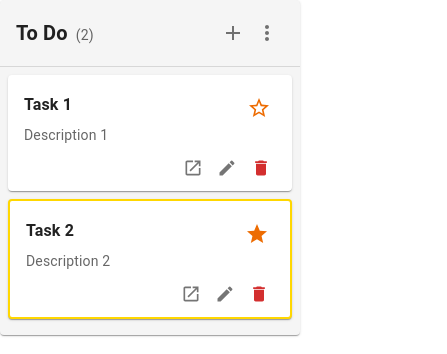
Test: BoardColumn › should open column menu when menu button is clicked
Click the button with test id "column-menu-btn-todo". click: (267, 33)
box: [250, 16, 284, 50]
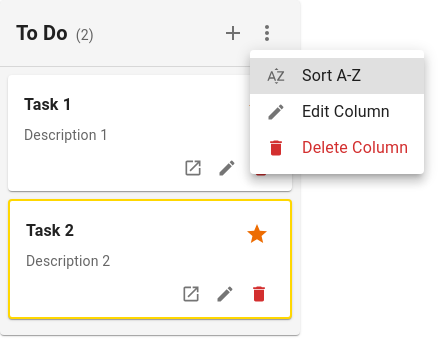
expect the text "Sort A-Z" is shown: met, box [302, 66, 361, 85]
expect the text "Edit Column" is shown: met, box [302, 102, 390, 121]
expect the text "Delete Column" is shown: met, box [302, 136, 408, 160]
